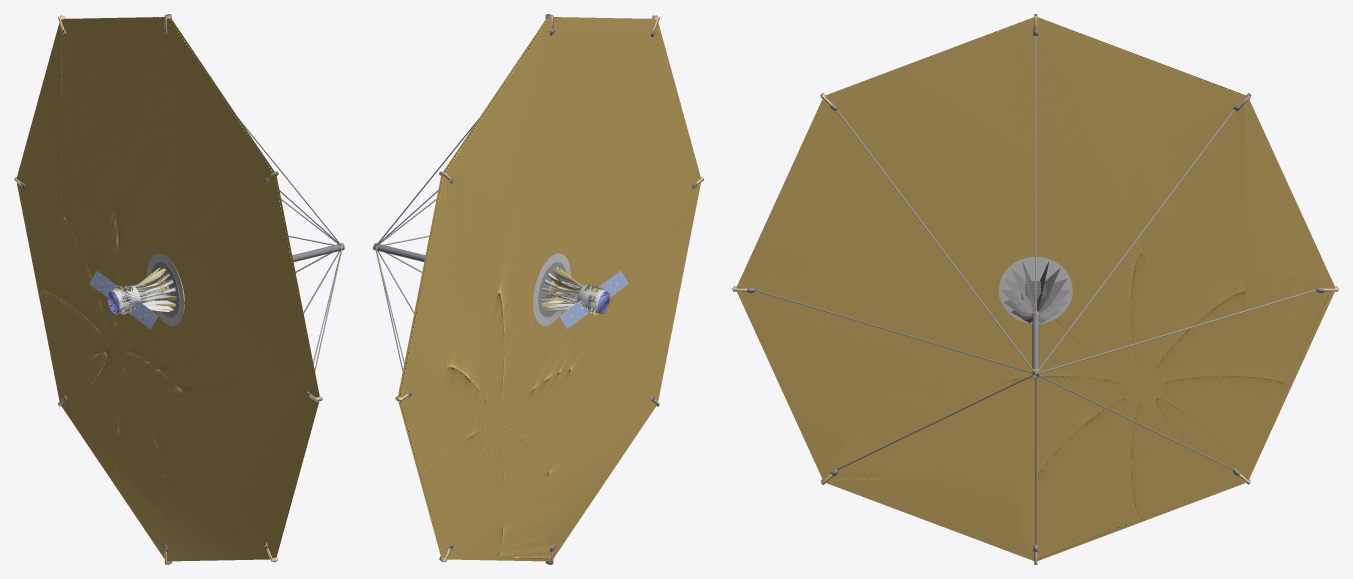
Rendered from solar-sail-concept.glb.
3 views of the same model, side by side, from view 1: azimuth 30°, elevation 25°; view 2: azimuth 150°, elevation 25°; view 3: azimuth 270°, elevation 25° (orthographic).
Parts seen in each view (by area): view 1: Fake; view 2: Fake; view 3: Fake.
Boxes of the visible parts, bbox=[...] form: Fake: bbox=[14, 14, 344, 564]; Fake: bbox=[373, 14, 703, 564]; Fake: bbox=[732, 14, 1338, 564].
Bounding box in the file's own units: 5.05 × 11.58 × 11.58.
Materials: 1 (1 with a texture image).
